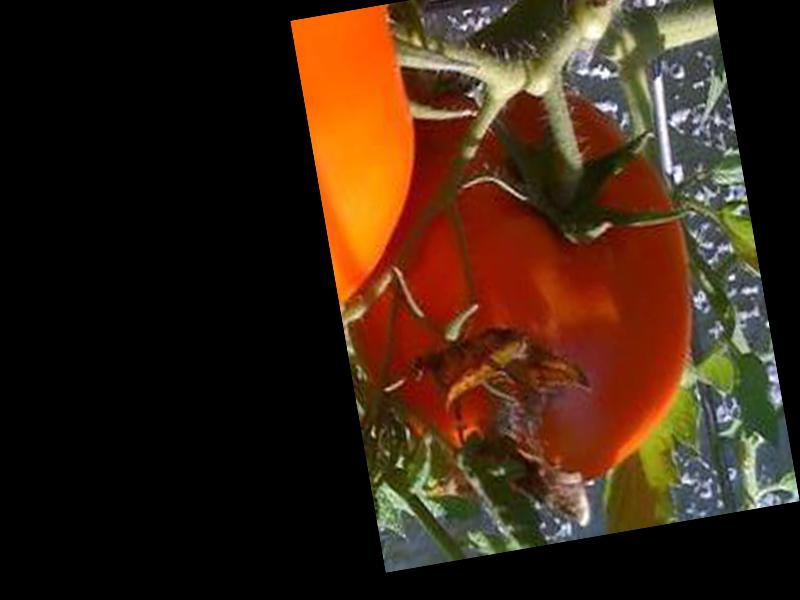Tomato: (319, 65, 724, 520)
